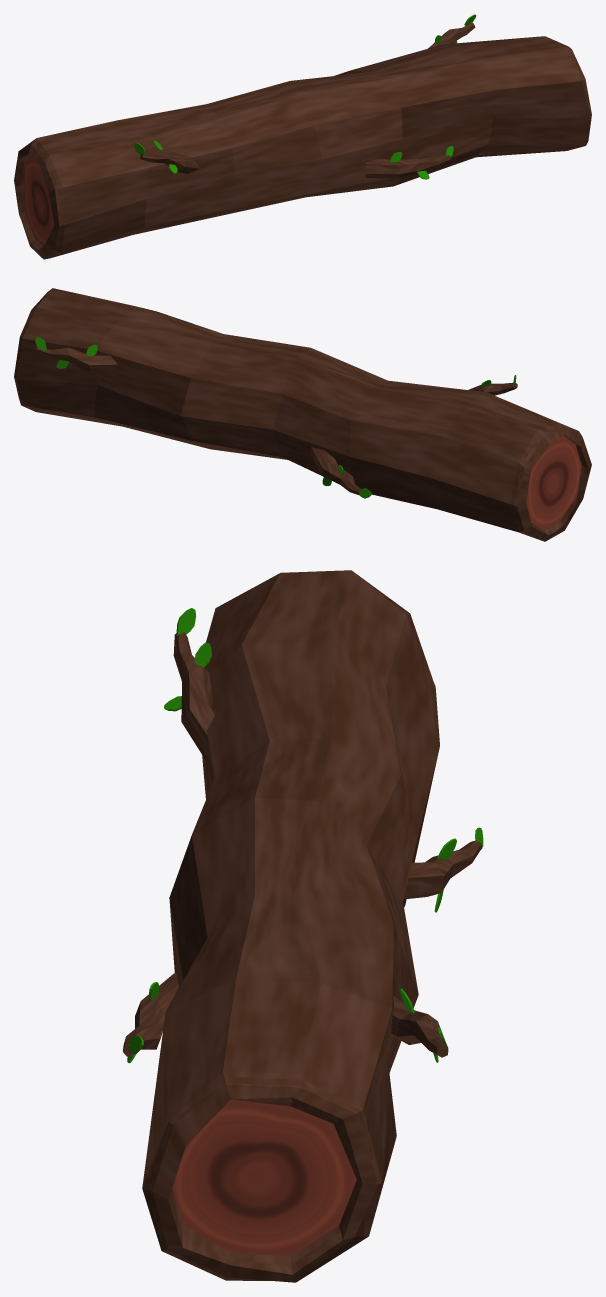
Rendered from Tree Log.fbx.
The picture shows the model from 3 angles, top to bottom: view 1: azimuth 30°, elevation 25°; view 2: azimuth 150°, elevation 25°; view 3: azimuth 270°, elevation 25°; orthographic projection. The views are drawn at different scales.
Visible parts, largest first — view 1: Tree Log; view 2: Tree Log; view 3: Tree Log.
Part boxes in pixels (box(x1,y1,x2,y2)): Tree Log: box(14, 14, 591, 259); Tree Log: box(14, 288, 591, 541); Tree Log: box(123, 570, 483, 1282).
Size of the model in its own units: 894 by 200 by 266.
